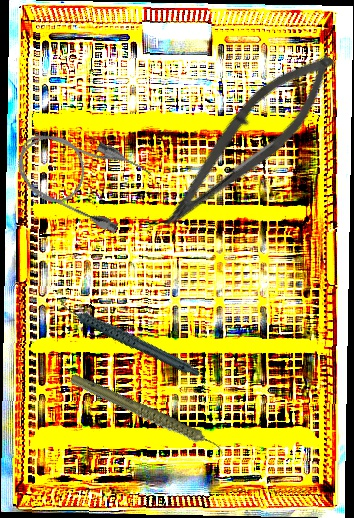Cannula: (5, 113, 155, 238)
Handpiece: (66, 344, 229, 488), (55, 271, 202, 404)
Micro Scissor: (149, 34, 349, 251)
